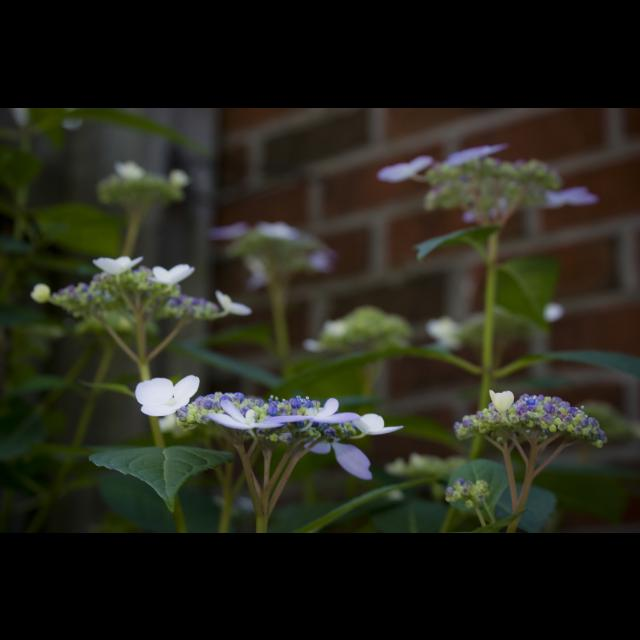Flower: (457, 393, 608, 449), (55, 276, 215, 320), (260, 398, 362, 432), (132, 374, 198, 421), (304, 435, 371, 477), (205, 397, 283, 431), (444, 475, 490, 513), (442, 145, 512, 167), (380, 153, 436, 179), (422, 313, 460, 349), (350, 411, 402, 437), (544, 185, 598, 207), (90, 254, 144, 274), (144, 264, 193, 284), (254, 220, 296, 240), (115, 160, 146, 184), (216, 290, 248, 312), (212, 222, 248, 238), (490, 388, 514, 412), (32, 283, 54, 301), (170, 166, 188, 187)
